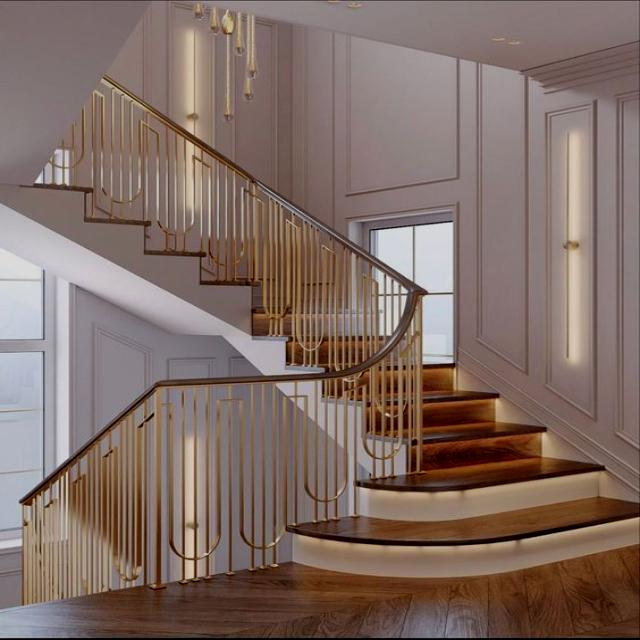stair: (298, 334, 607, 508)
